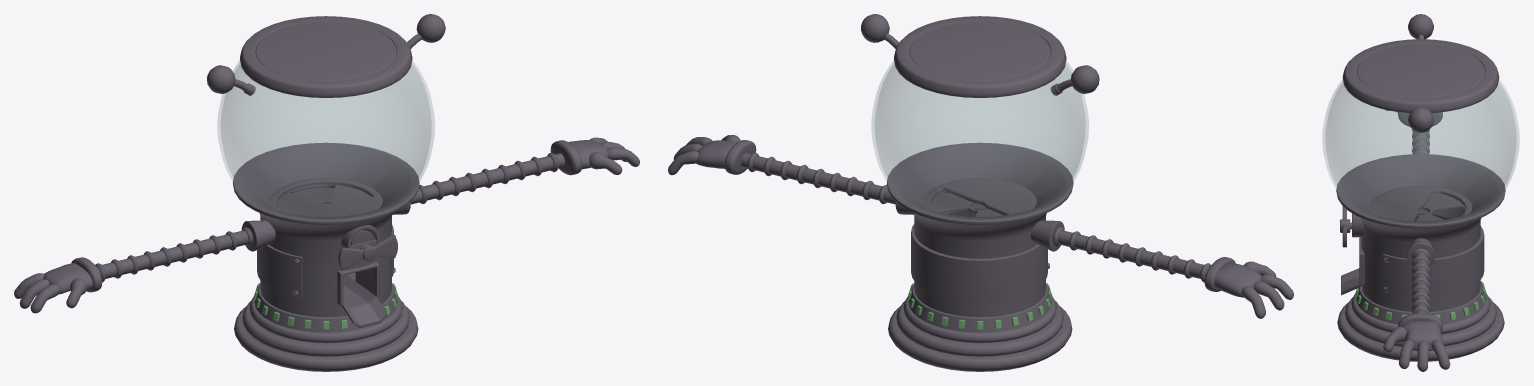
The model's file is hub_gumball_machine.fbx.
The picture shows the model from 3 angles, left to right: view 1: azimuth 30°, elevation 25°; view 2: azimuth 150°, elevation 25°; view 3: azimuth 270°, elevation 25°; orthographic projection. The views are drawn at different scales.
Parts seen in each view (by area): view 1: gumball_body, glass_exterior, glass_interior, top_cap1, arm_R, arm_L, wheel_assembly, hand_R, hand_L, turn_handle, wheel_assembly1; view 2: gumball_body, glass_exterior, glass_interior, top_cap1, arm_R, arm_L, wheel_assembly, hand_R, hand_L, wheel_assembly1; view 3: gumball_body, glass_exterior, glass_interior, top_cap1, wheel_assembly, arm_L, hand_L, wheel_assembly1, arm_R, thumb_L, pinky_L, middle_L (+3 smaller).
Boxes of the visible parts, bbox=[...] form: gumball_body: bbox=[207, 14, 445, 371]; glass_exterior: bbox=[217, 61, 434, 187]; glass_interior: bbox=[221, 64, 431, 186]; top_cap1: bbox=[255, 21, 396, 80]; arm_R: bbox=[95, 227, 253, 282]; arm_L: bbox=[410, 152, 564, 204]; wheel_assembly: bbox=[269, 178, 382, 216]; hand_R: bbox=[43, 257, 102, 294]; hand_L: bbox=[550, 140, 608, 175]; turn_handle: bbox=[338, 235, 397, 270]; wheel_assembly1: bbox=[277, 184, 370, 207]; gumball_body: bbox=[861, 14, 1099, 371]; glass_exterior: bbox=[871, 61, 1088, 187]; glass_interior: bbox=[875, 64, 1085, 186]; top_cap1: bbox=[909, 21, 1050, 80]; arm_R: bbox=[1053, 227, 1210, 282]; arm_L: bbox=[741, 152, 895, 204]; wheel_assembly: bbox=[923, 178, 1036, 215]; hand_R: bbox=[1204, 257, 1261, 297]; hand_L: bbox=[696, 140, 756, 174]; wheel_assembly1: bbox=[931, 190, 1003, 216]; gumball_body: bbox=[1336, 14, 1505, 361]; glass_exterior: bbox=[1322, 79, 1519, 194]; glass_interior: bbox=[1326, 83, 1515, 193]; top_cap1: bbox=[1357, 43, 1484, 97]; wheel_assembly: bbox=[1369, 186, 1472, 221]; arm_L: bbox=[1412, 248, 1429, 313]; hand_L: bbox=[1398, 313, 1442, 350]; wheel_assembly1: bbox=[1416, 192, 1465, 221]; arm_R: bbox=[1412, 129, 1429, 154]; thumb_L: bbox=[1383, 326, 1406, 352]; pinky_L: bbox=[1431, 339, 1450, 369]; middle_L: bbox=[1417, 340, 1429, 371].
Size of the model in its own units: 4717 by 2182 by 1463.
